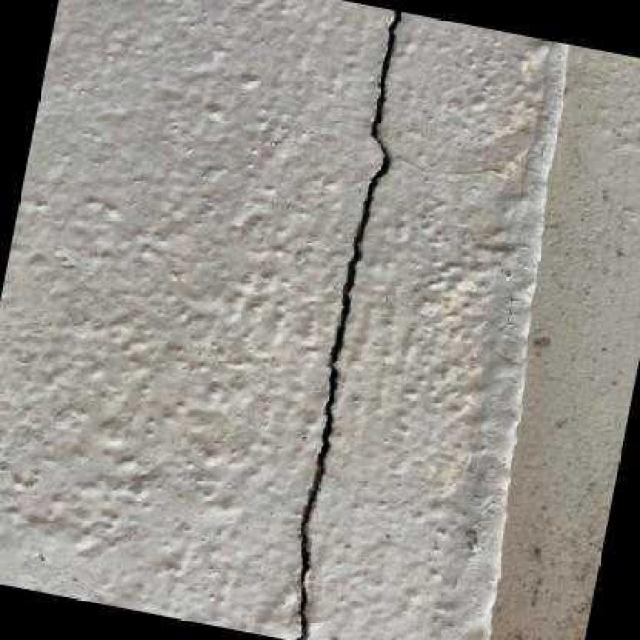D00: (293, 9, 400, 640)
